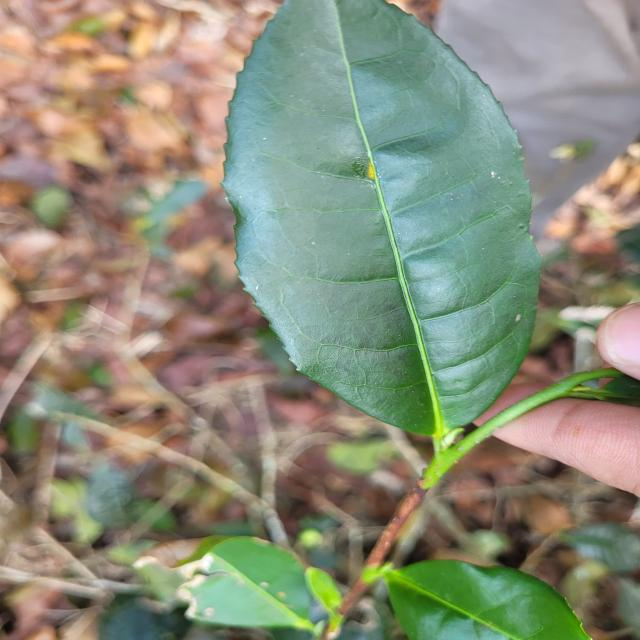Category D(7+ days, Not for Tea): (208, 2, 553, 439)
